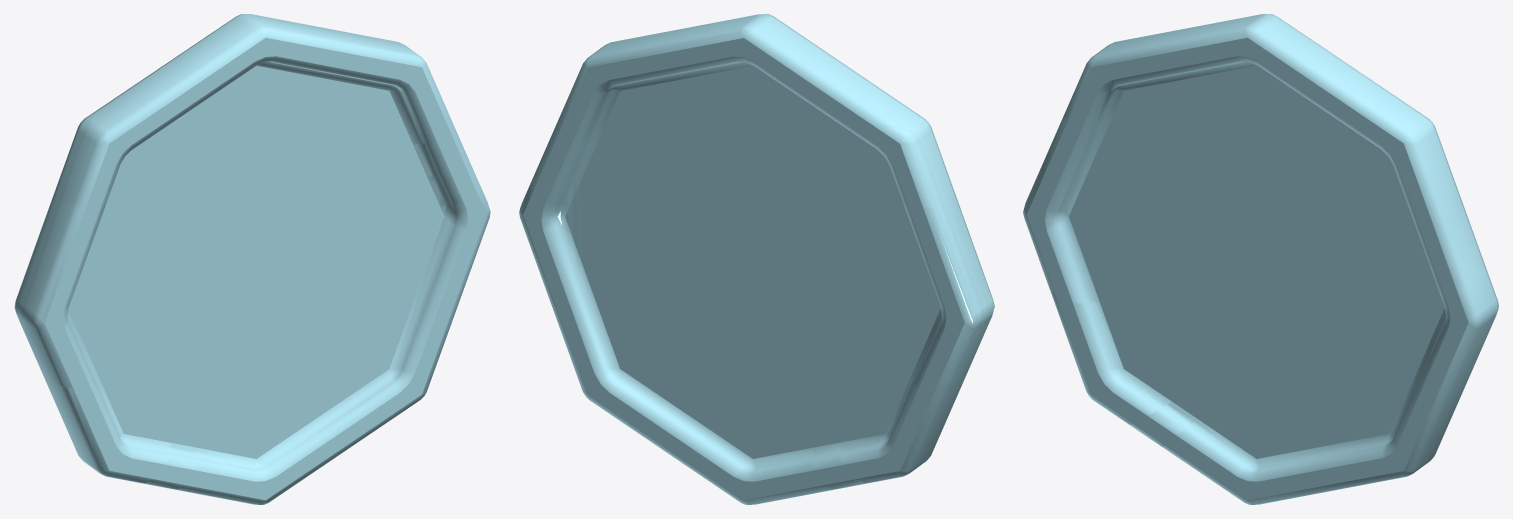
3 renders of one model, left to right at view 1: azimuth 30°, elevation 25°; view 2: azimuth 150°, elevation 25°; view 3: azimuth 330°, elevation 25°, orthographic.
Parts seen in each view (by area): view 1: coin_octagono.broken; view 2: coin_octagono.broken; view 3: coin_octagono.broken.
Boxes of the visible parts, x1,y1,x2,y2 form: coin_octagono.broken: [14, 14, 490, 504]; coin_octagono.broken: [519, 14, 994, 504]; coin_octagono.broken: [1023, 14, 1498, 504].
Bounding box in the file's own units: 1.99 × 1.99 × 0.2.
